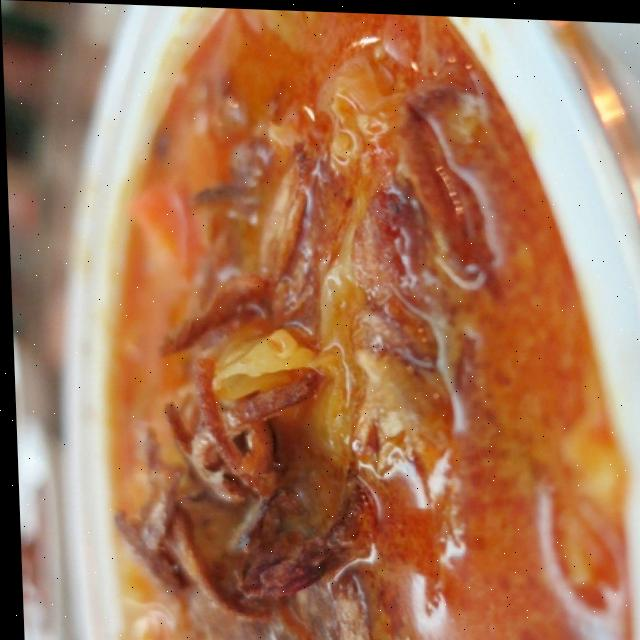熟制海鲜: (26, 1, 640, 640)
